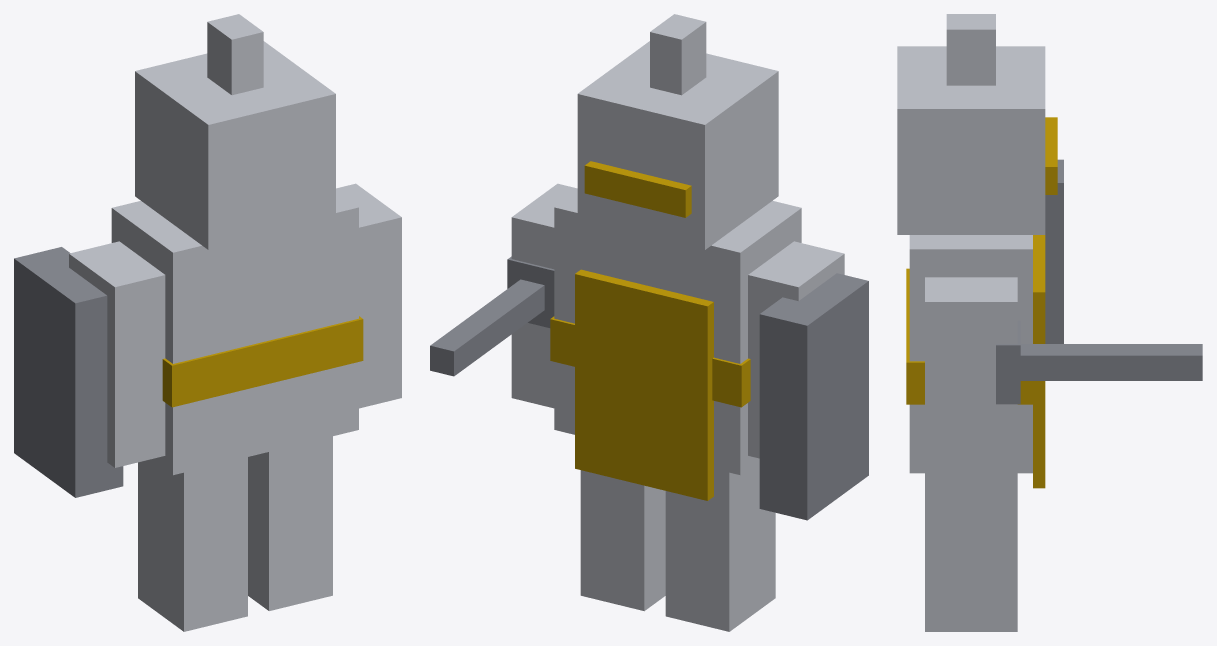
The model's file is paladin.gltf.
3 renders of one model, left to right at view 1: azimuth 30°, elevation 25°; view 2: azimuth 150°, elevation 25°; view 3: azimuth 270°, elevation 25°, orthographic.
Visible parts, largest first — view 1: torso, helm, shield, leg_l, arm_l, leg_r, belt, arm_r, plume_base; view 2: helm, tabard, shield, torso, leg_l, leg_r, arm_r, arm_l, sword_blade, plume_base, visor, belt (+1 smaller); view 3: helm, arm_r, leg_r, torso, sword_blade, plume_base, shield, tabard, sword_guard, belt, visor.
Part boxes in pixels (bbox=[...]): torso: bbox=[111, 191, 358, 475]; helm: bbox=[135, 41, 335, 249]; shield: bbox=[14, 247, 123, 497]; leg_l: bbox=[138, 457, 247, 631]; arm_l: bbox=[69, 241, 165, 467]; leg_r: bbox=[248, 436, 332, 610]; belt: bbox=[162, 316, 363, 407]; arm_r: bbox=[336, 183, 401, 408]; plume_base: bbox=[207, 14, 263, 95]; helm: bbox=[577, 41, 778, 249]; tabard: bbox=[575, 269, 713, 500]; shield: bbox=[759, 273, 868, 520]; torso: bbox=[554, 190, 801, 475]; leg_l: bbox=[665, 461, 775, 631]; leg_r: bbox=[580, 470, 665, 611]; arm_r: bbox=[511, 183, 577, 408]; arm_l: bbox=[748, 241, 844, 458]; sword_blade: bbox=[430, 279, 544, 376]; plume_base: bbox=[650, 14, 706, 95]; visor: bbox=[584, 161, 691, 217]; belt: bbox=[550, 316, 750, 407]; helm: bbox=[897, 46, 1045, 234]; arm_r: bbox=[925, 277, 1017, 483]; leg_r: bbox=[925, 484, 1017, 631]; torso: bbox=[909, 235, 1032, 473]; sword_blade: bbox=[1020, 344, 1202, 380]; plume_base: bbox=[946, 14, 995, 85]; shield: bbox=[1045, 159, 1063, 343]; tabard: bbox=[1033, 235, 1045, 488]; sword_guard: bbox=[996, 320, 1020, 404]; belt: bbox=[906, 268, 1035, 404]; visor: bbox=[1045, 117, 1057, 194].
Size of the model in its own units: 0.7562 by 1.28 by 0.6188.
3 materials, 3 textured.
